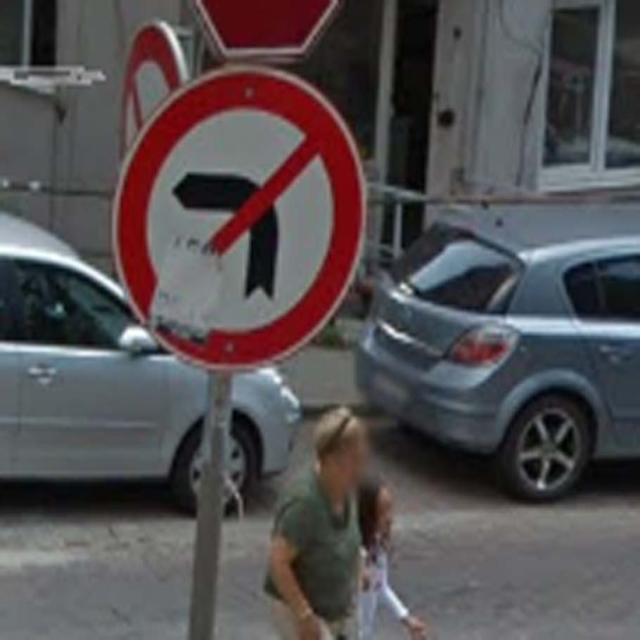soladonulmez: (122, 65, 362, 368)
